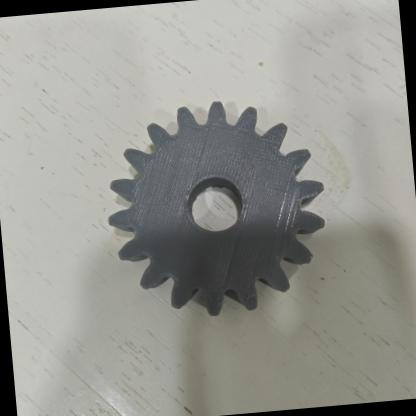gear: (99, 93, 334, 324)
